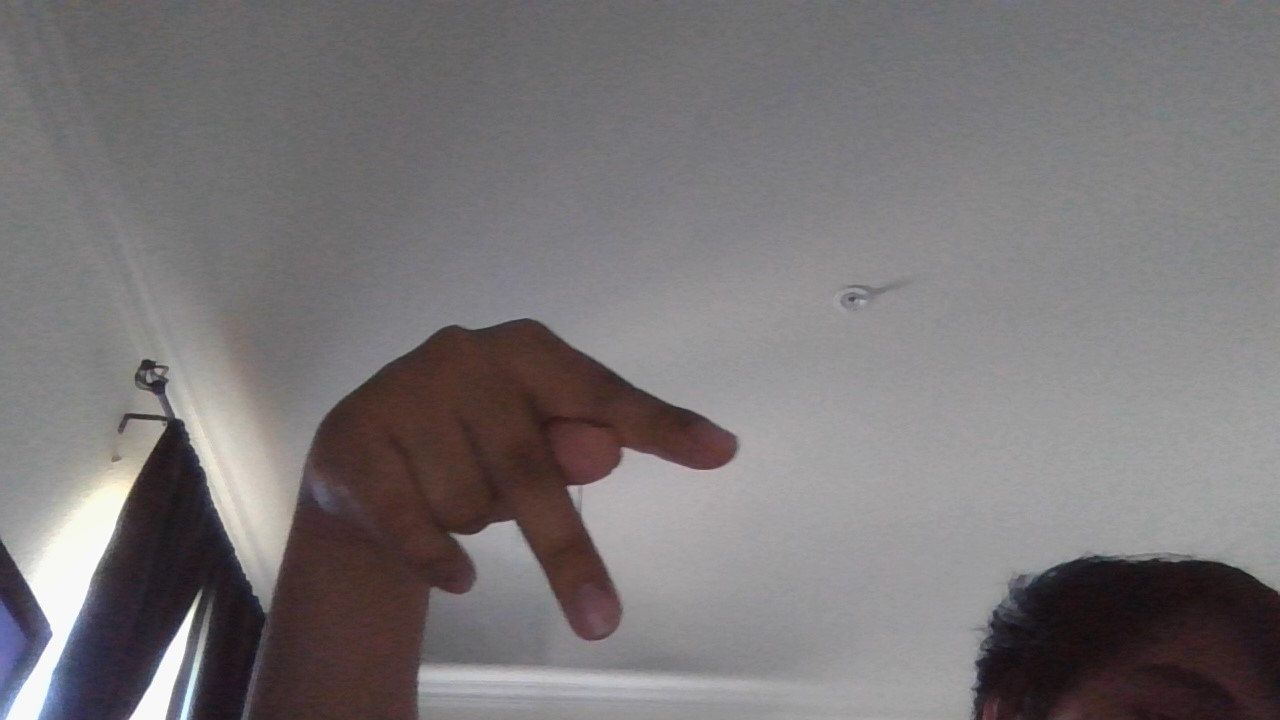p: (277, 293, 822, 679)
